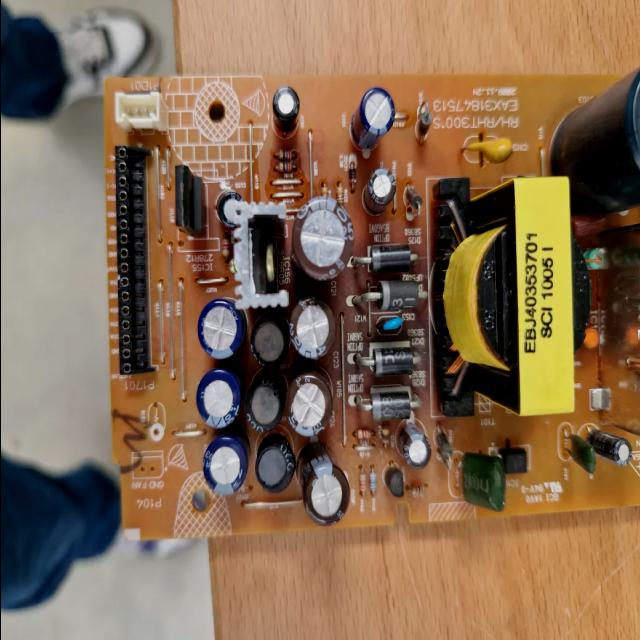C: (550, 55, 640, 215), (292, 199, 354, 279), (293, 446, 349, 526), (285, 364, 332, 436), (202, 431, 248, 496), (196, 298, 243, 357), (290, 296, 333, 358), (194, 371, 240, 426), (350, 88, 392, 146), (244, 369, 284, 429), (248, 314, 288, 366), (255, 439, 293, 488), (396, 424, 430, 466), (362, 168, 394, 212), (592, 432, 632, 466), (272, 87, 298, 124)
D: (405, 483, 427, 498), (358, 463, 367, 498), (221, 232, 230, 262), (348, 162, 356, 195), (380, 422, 390, 448), (368, 464, 376, 496), (273, 150, 295, 161), (350, 428, 374, 438), (272, 162, 296, 172), (320, 182, 328, 196), (337, 182, 342, 203)
E: (461, 138, 512, 163), (376, 316, 402, 332)
